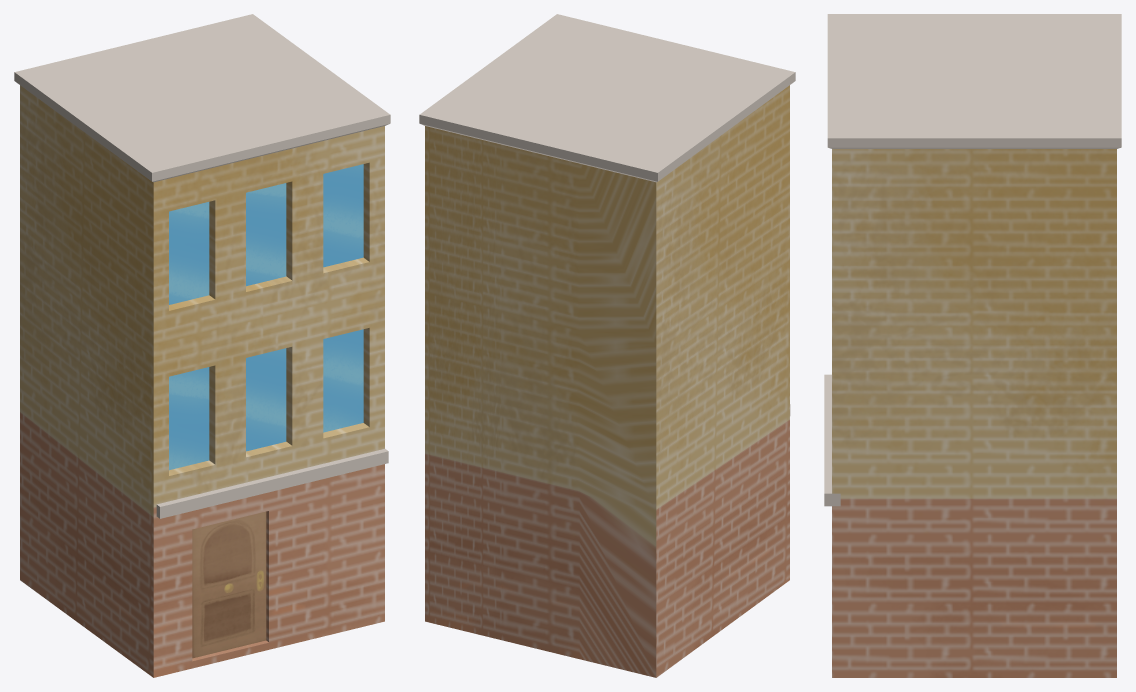
Rendered from SM_cassa_3.fbx.
3 renders of one model, left to right at view 1: azimuth 30°, elevation 25°; view 2: azimuth 150°, elevation 25°; view 3: azimuth 270°, elevation 25°, orthographic. The views are drawn at different scales.
Parts seen in each view (by area): view 1: Casa_0; view 2: Casa_0; view 3: Casa_0.
Part boxes in pixels (x1=…): Casa_0: x1=14, y1=14, x2=390, y2=677; Casa_0: x1=419, y1=14, x2=795, y2=677; Casa_0: x1=824, y1=14, x2=1121, y2=677.
Size of the model in its own units: 641 by 1303 by 648.
